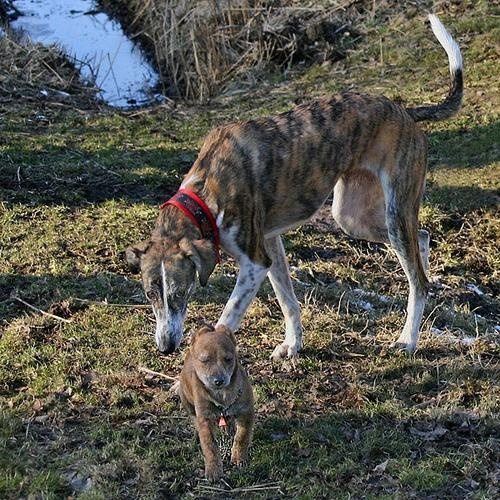dog: (131, 14, 466, 364), (178, 322, 258, 482)
